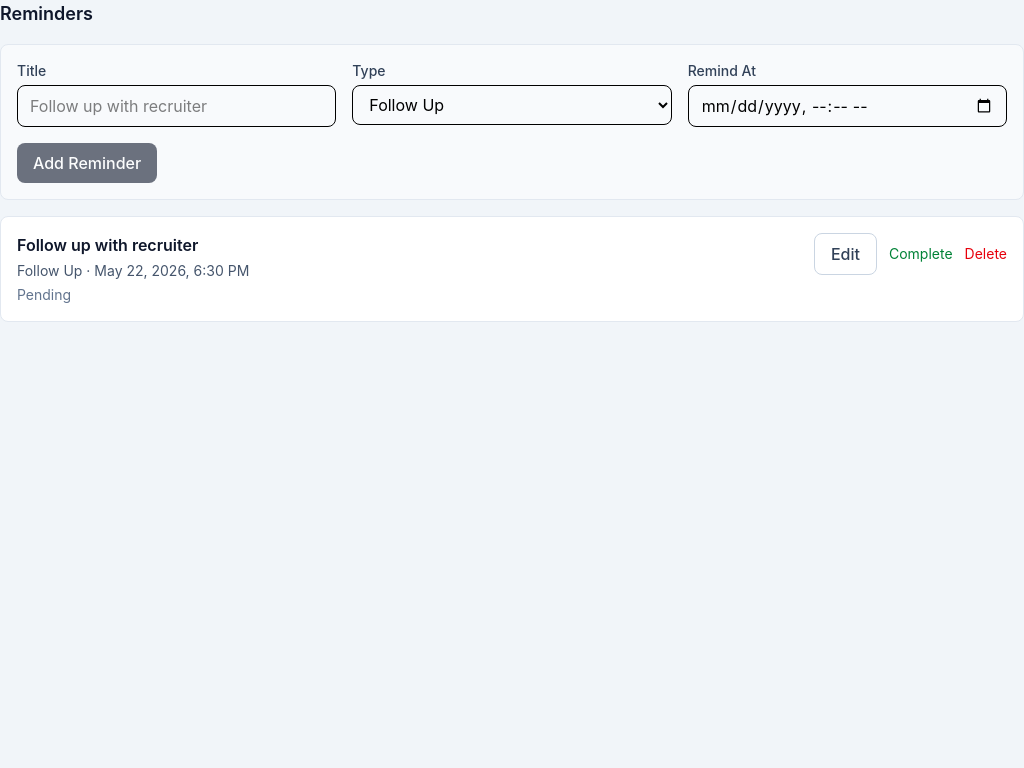
Test: RemindersSection › opens confirmation dialog before deleting a reminder
The width and height of the screenshot is (1024, 768).
Expected: the heading "Follow up with recruiter" is shown, [17, 235, 198, 255]
Click the button "Delete": (986, 254) [965, 233, 1007, 275]
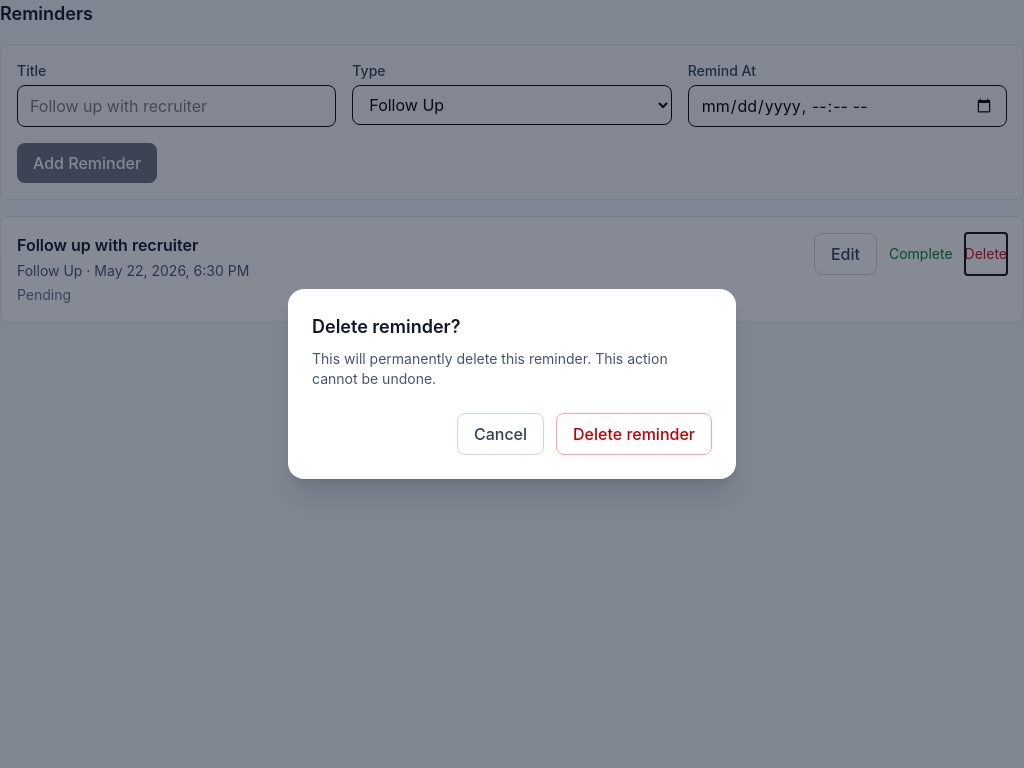
Expected: the heading "Delete reminder?" is shown, [312, 316, 460, 337]
Expected: the text "This will permanently delete this reminder" is shown, [312, 350, 668, 387]
